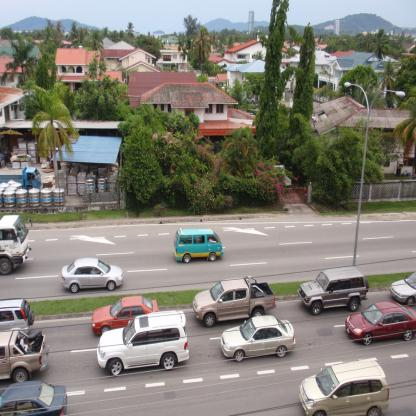Car: (97, 308, 191, 377), (300, 360, 387, 416), (219, 315, 298, 362), (300, 269, 368, 315), (345, 304, 416, 344), (0, 380, 70, 415), (94, 297, 160, 333), (62, 258, 124, 294), (0, 300, 37, 332), (390, 271, 416, 303)
